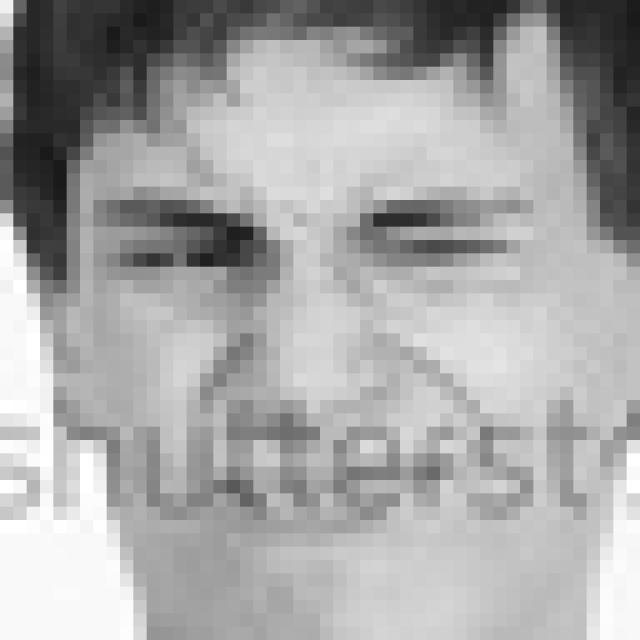disgust: (99, 190, 536, 546)
